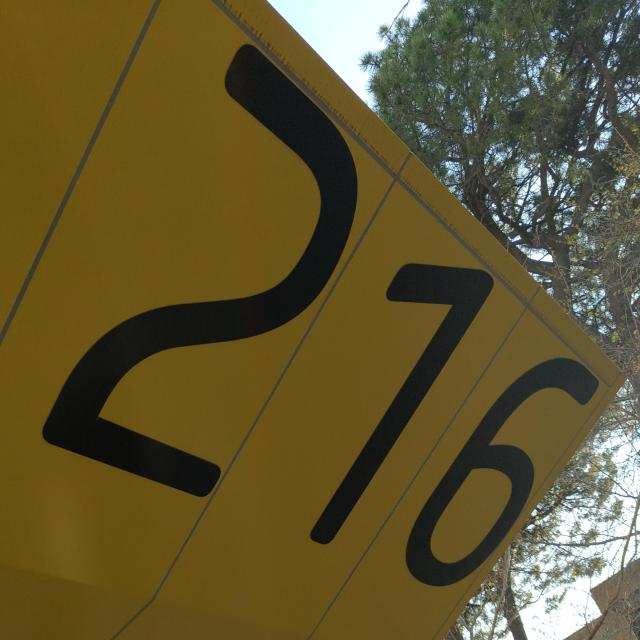character: (38, 37, 365, 501), (307, 259, 499, 546), (399, 352, 603, 592)
